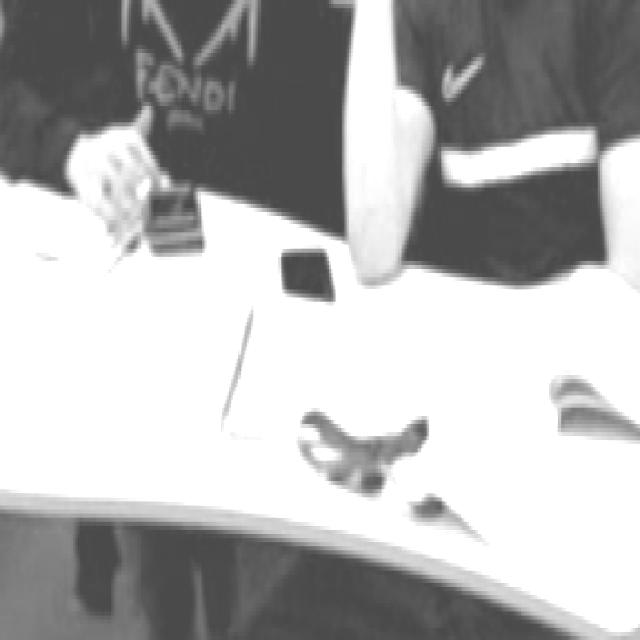fake: (142, 185, 208, 265), (277, 249, 339, 310)
